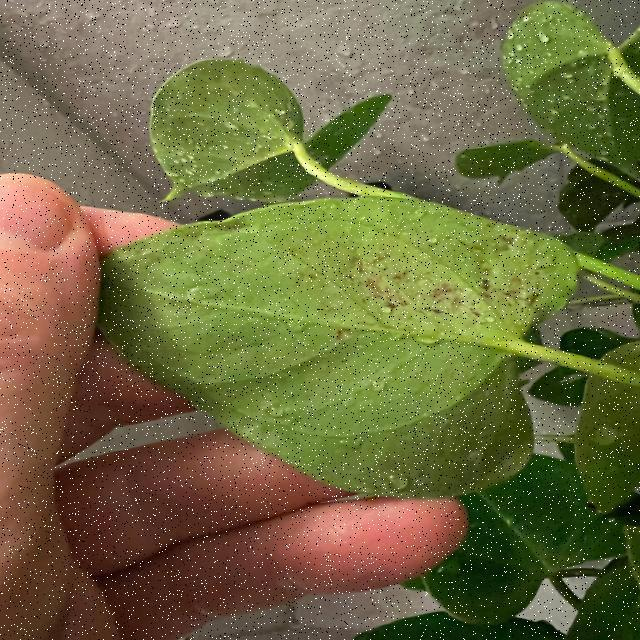Thrips: (296, 197, 571, 377)
